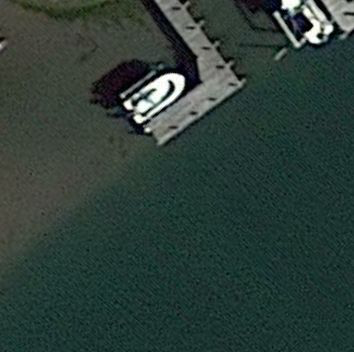boat: (120, 73, 188, 125)
